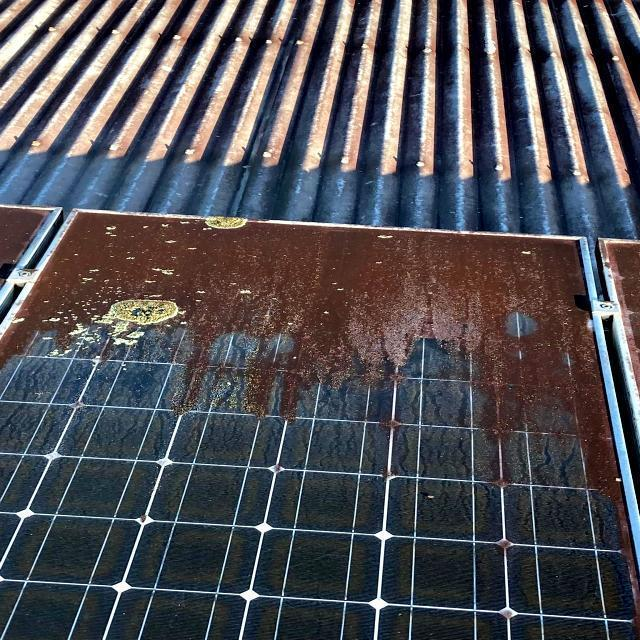soiled: (2, 209, 640, 640)
